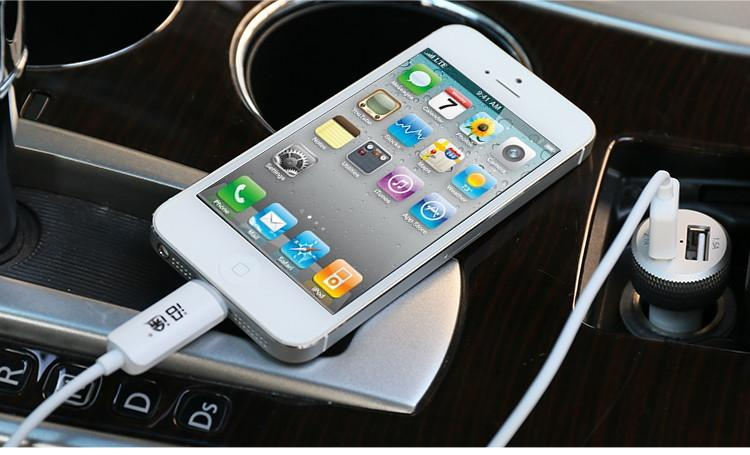phone: (153, 28, 600, 353)
